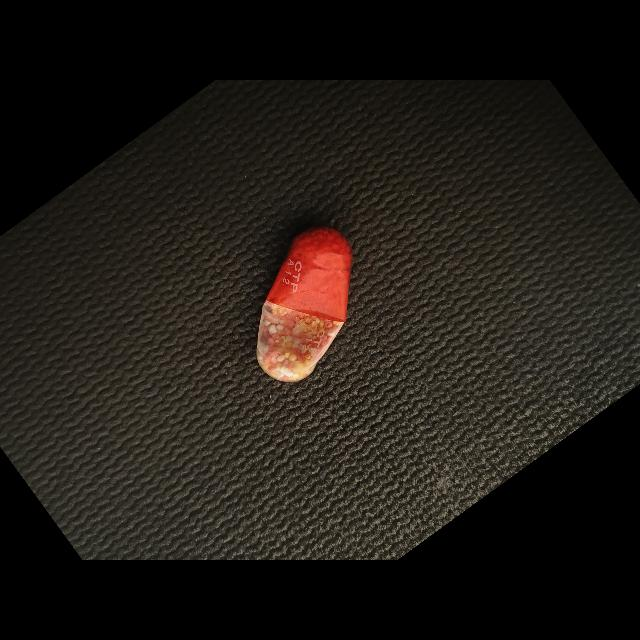Defective Capsule: (257, 227, 352, 382)
